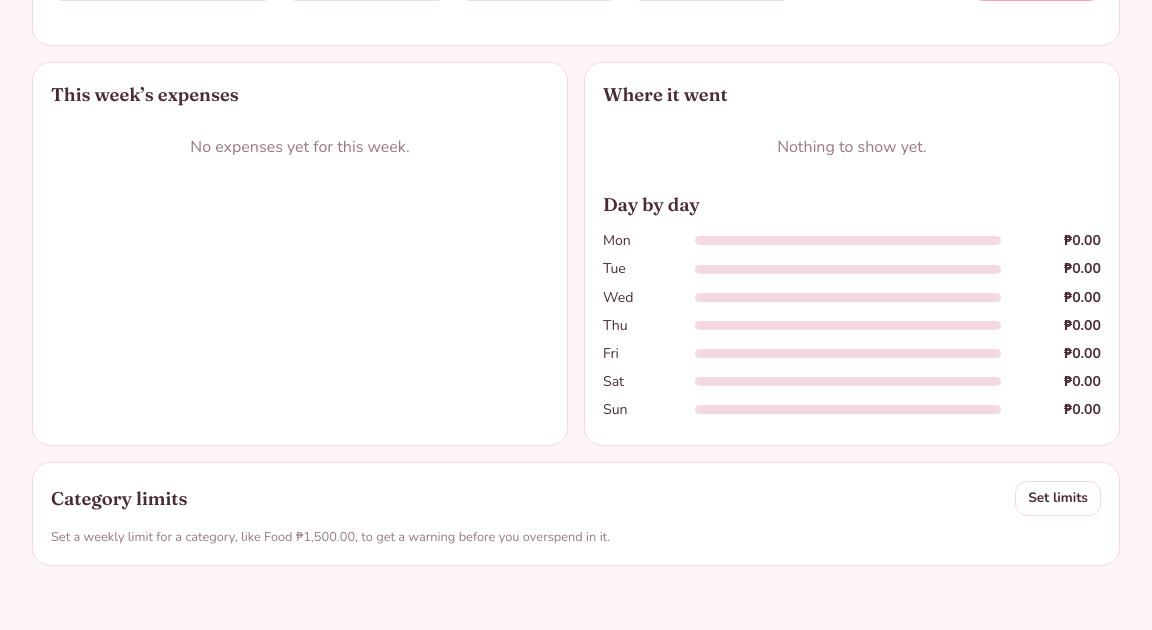
it: new features › warns before and after going over a category limit
(page scrolled)
Click the button "Set limits".
click(1058, 498)  # box x1=1015 y1=481 x2=1101 y2=516
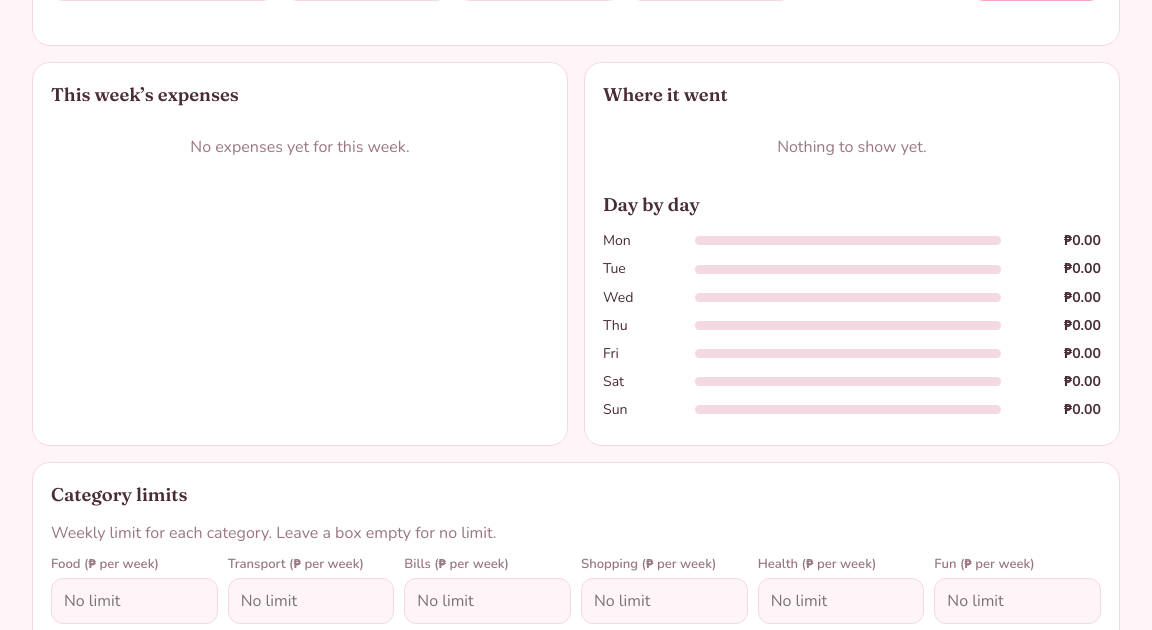
Type "100" into the number field labelled "Food (₱ per week)".
click(134, 601); type("100")  # box x1=51 y1=578 x2=218 y2=624
(page scrolled)
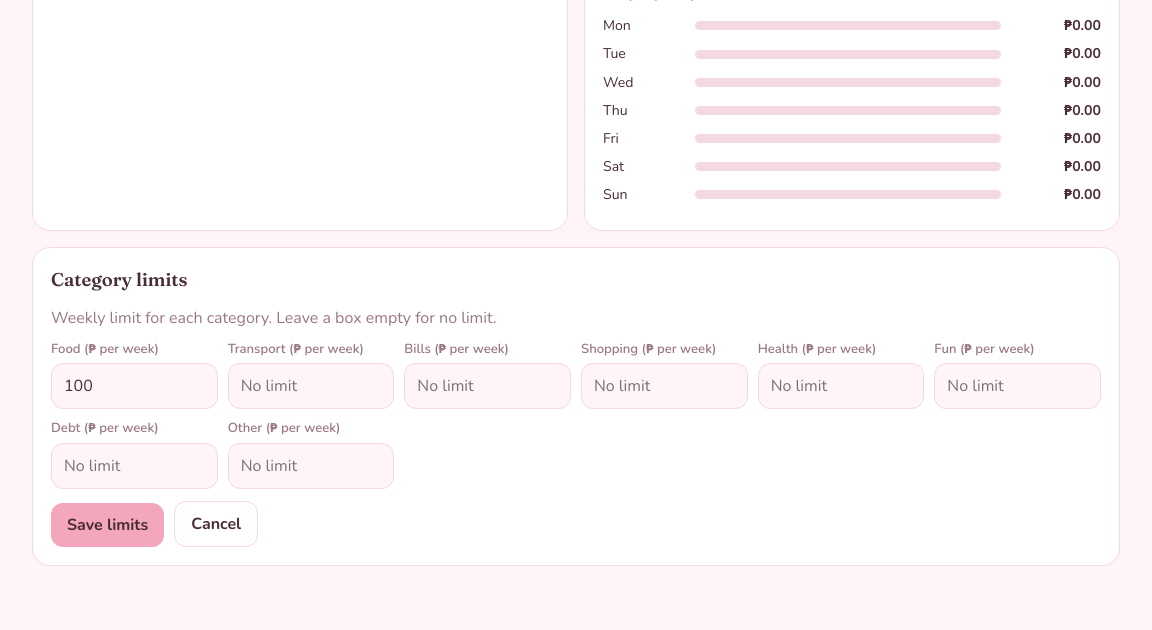
Click the button "Save limits".
click(108, 525)  # box x1=51 y1=503 x2=164 y2=547
(page scrolled)
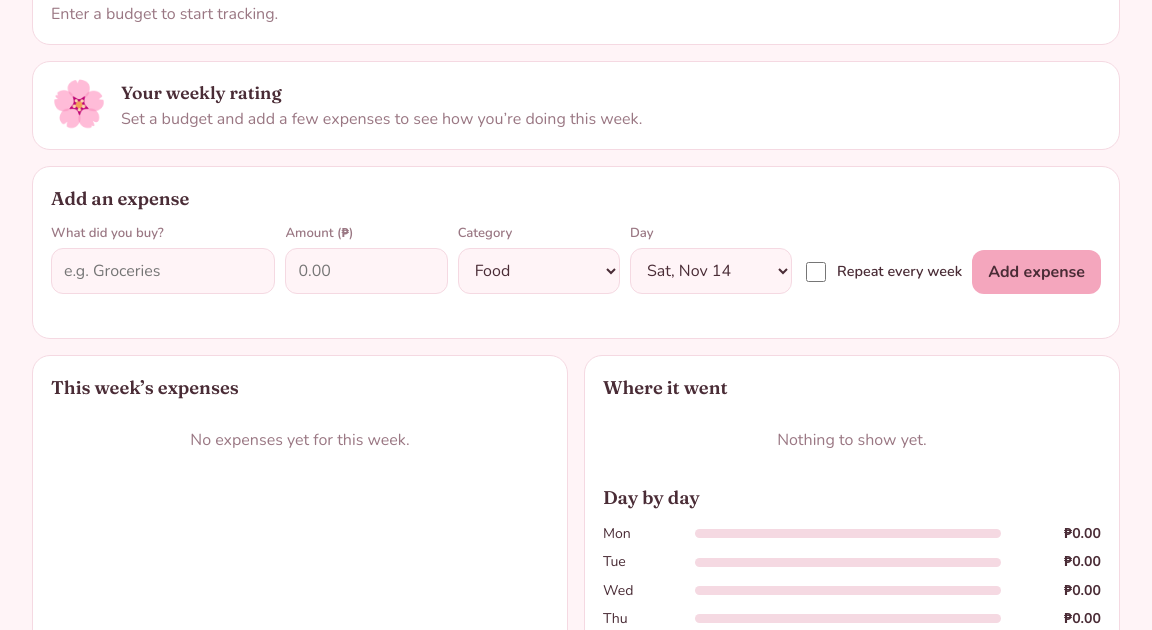
Type "Pizza" into the field labelled "What did you buy?".
click(163, 271); type("Pizza")  # box x1=51 y1=248 x2=275 y2=294
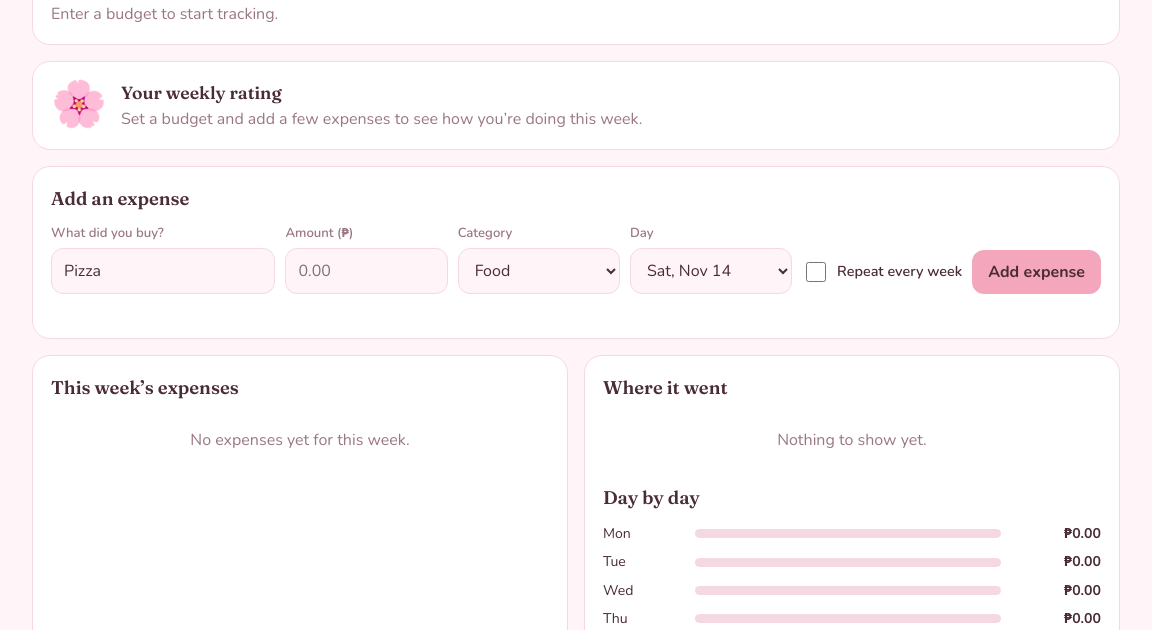
Type "150" into the number field with id "amt".
click(366, 271); type("150")  # box x1=285 y1=248 x2=448 y2=294
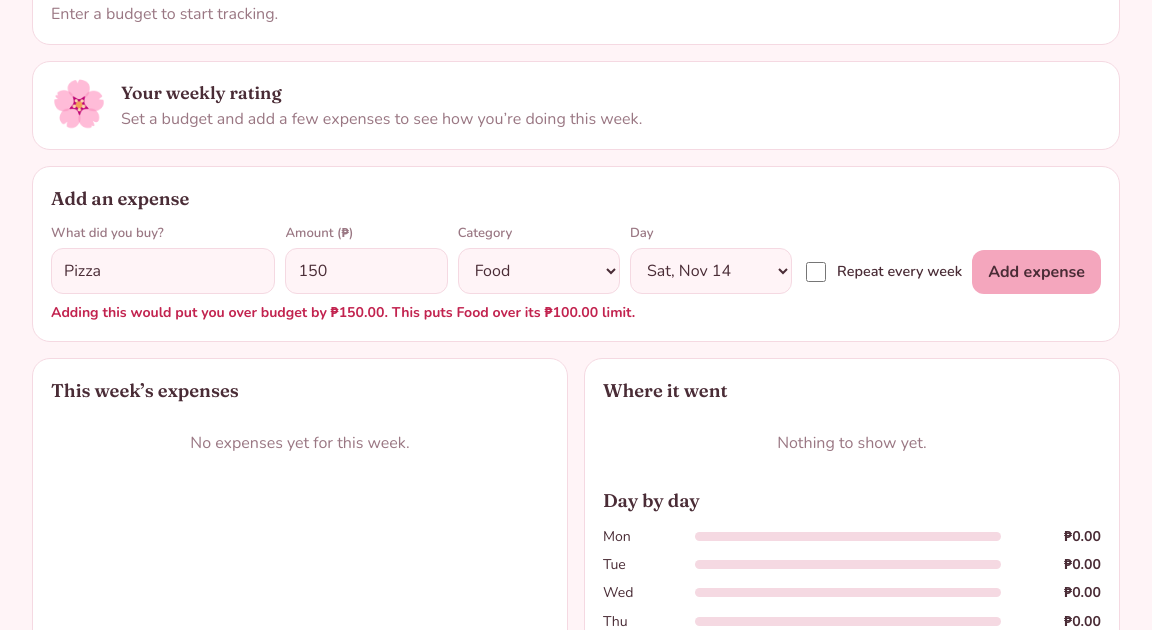
Expected: the text "This puts Food over its ₱100.00 limit" is shown, x1=51 y1=303 x2=635 y2=322
Click the button "Add expense".
click(1037, 272)  # box x1=972 y1=250 x2=1101 y2=294
(page scrolled)
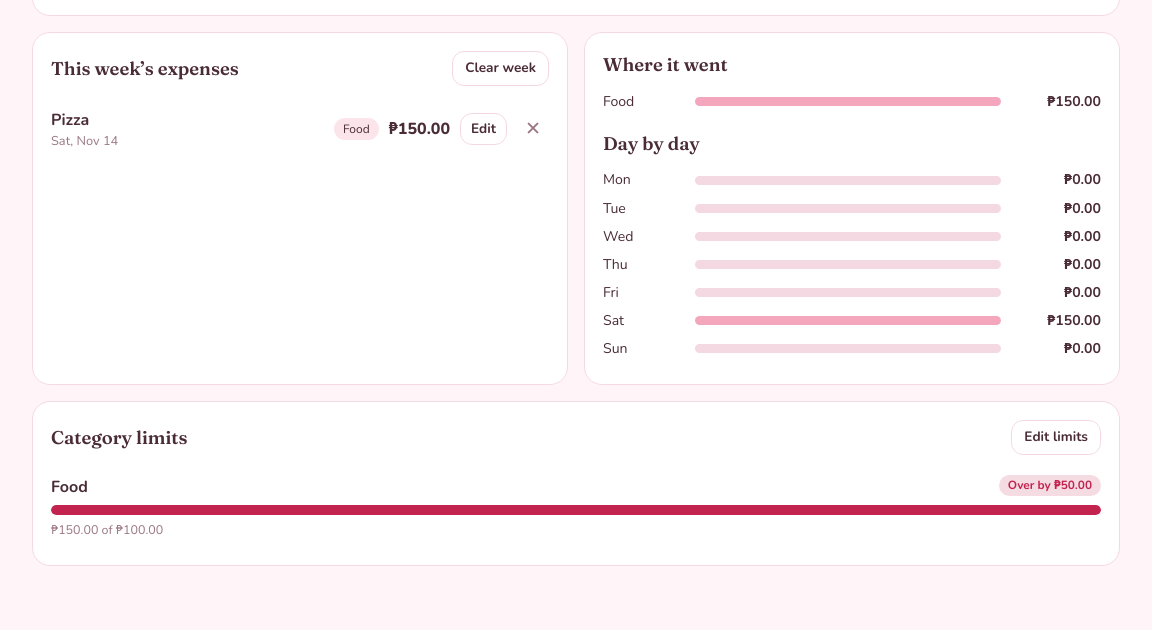
Expected: the text "Over by ₱50.00" is shown, x1=999 y1=475 x2=1101 y2=496
